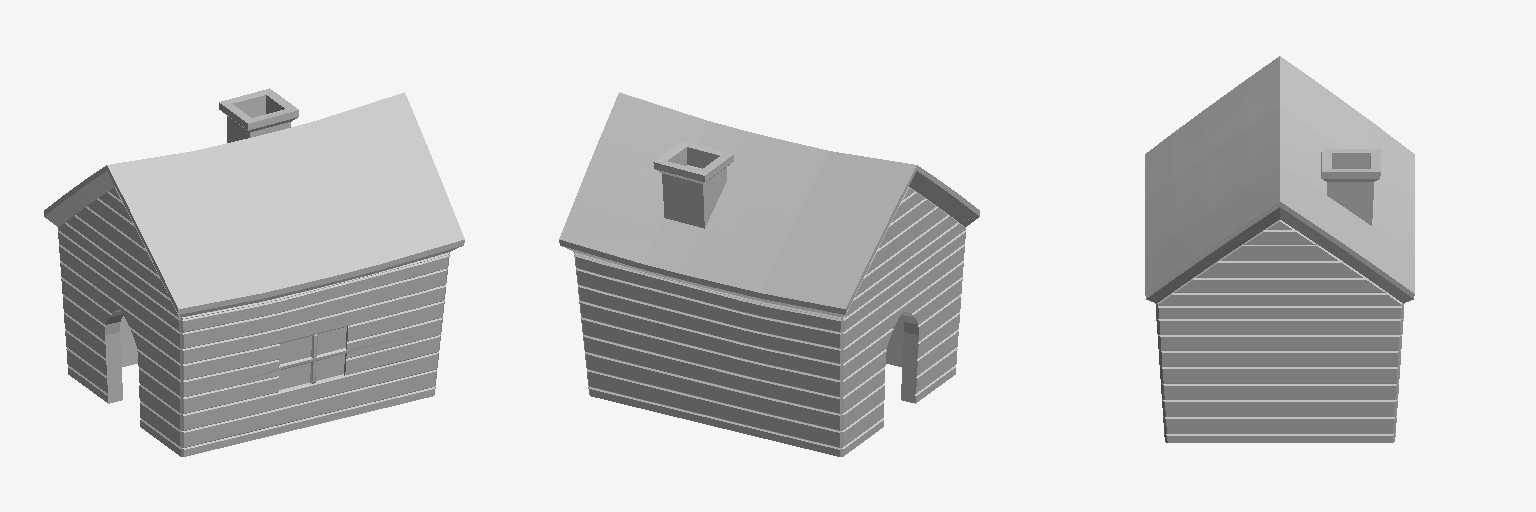
The model's file is dog _house.obj.
The picture shows the model from 3 angles: view 1: azimuth 30°, elevation 25°; view 2: azimuth 150°, elevation 25°; view 3: azimuth 270°, elevation 25°; orthographic projection.
Parts seen in each view (by area): view 1: Mesh_0; view 2: Mesh_0; view 3: Mesh_0.
Part boxes in pixels (x1,y1,x2,y2): Mesh_0: (44, 88, 464, 456); Mesh_0: (559, 92, 979, 456); Mesh_0: (1145, 56, 1414, 442).
Bounding box in the file's own units: 0.118 × 0.0965 × 0.0924.